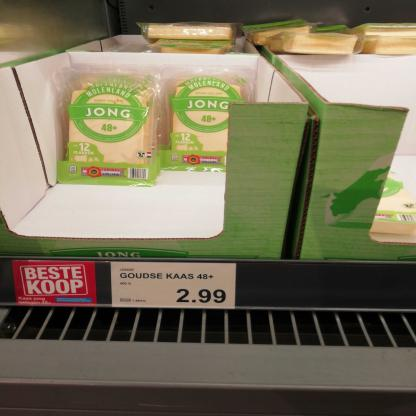prtg: (110, 262, 237, 309)
